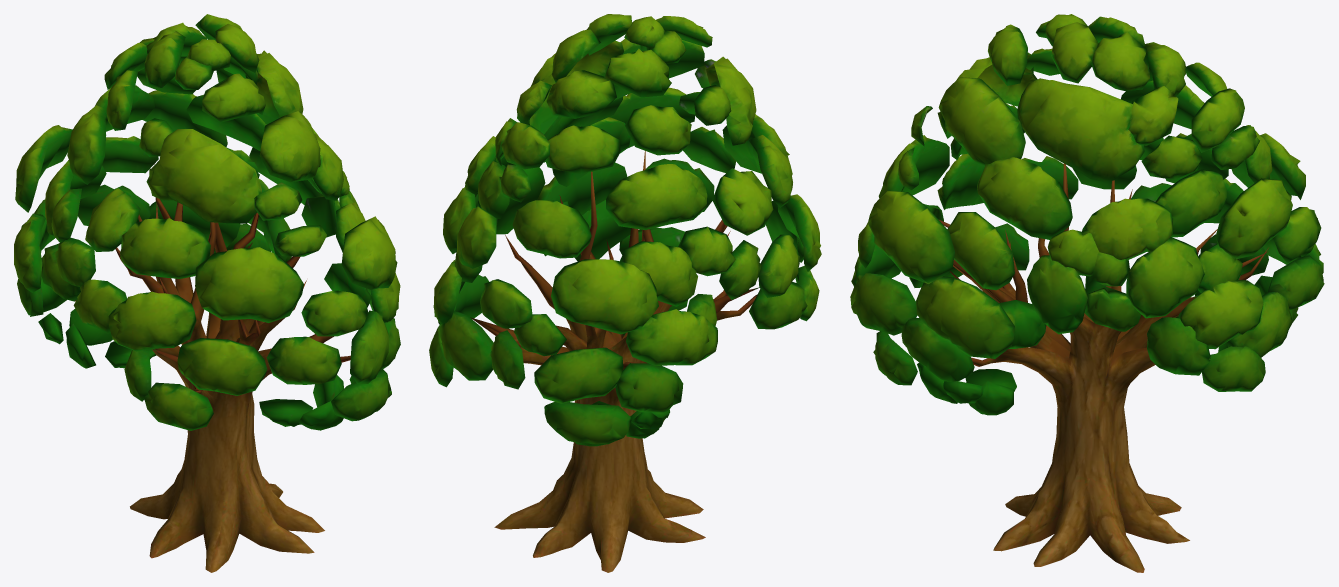
The model's file is tree.glb.
The picture shows the model from 3 angles, left to right: view 1: azimuth 30°, elevation 25°; view 2: azimuth 150°, elevation 25°; view 3: azimuth 270°, elevation 25°; orthographic projection.
Visible parts, largest first — view 1: tripo_node_51616cd4-6424-4474-90ab-bf0edf39a722; view 2: tripo_node_51616cd4-6424-4474-90ab-bf0edf39a722; view 3: tripo_node_51616cd4-6424-4474-90ab-bf0edf39a722.
Part boxes in pixels (x1,y1,x2,y2): tripo_node_51616cd4-6424-4474-90ab-bf0edf39a722: [14, 14, 400, 572]; tripo_node_51616cd4-6424-4474-90ab-bf0edf39a722: [429, 14, 821, 572]; tripo_node_51616cd4-6424-4474-90ab-bf0edf39a722: [850, 14, 1324, 572].
Bounding box in the file's own units: 3 × 5 × 4.26.
Materials: 1 (1 with a texture image).
